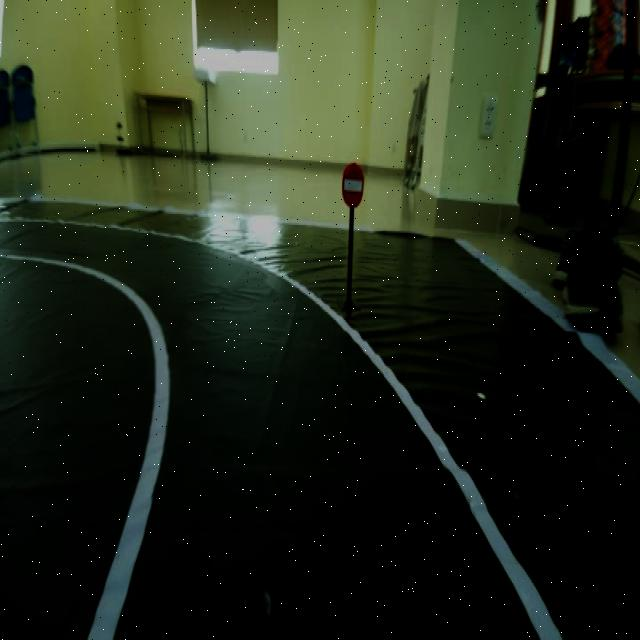no_entry: (335, 151, 371, 215)
